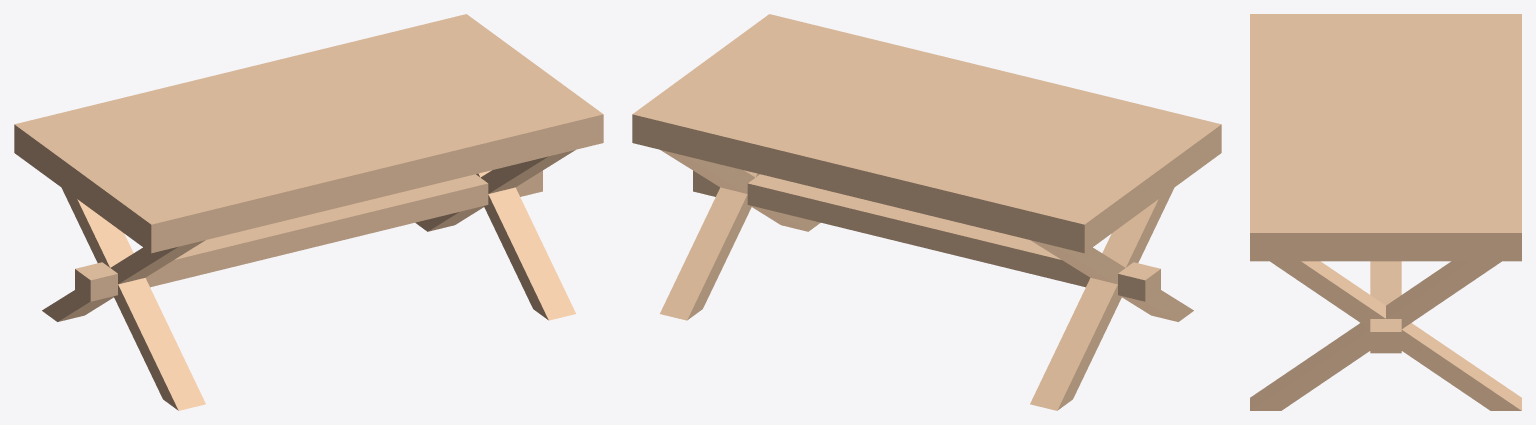
File: tableCross.glb
3 renders of one model, left to right at view 1: azimuth 30°, elevation 25°; view 2: azimuth 150°, elevation 25°; view 3: azimuth 270°, elevation 25°, orthographic.
Visible parts, largest first — view 1: tableCross(Clone); view 2: tableCross(Clone); view 3: tableCross(Clone).
Boxes of the visible parts, bbox=[...] form: tableCross(Clone): bbox=[14, 14, 603, 410]; tableCross(Clone): bbox=[632, 14, 1221, 410]; tableCross(Clone): bbox=[1250, 14, 1521, 410].
Size of the model in its own units: 0.8521 by 0.3474 by 0.4474.
